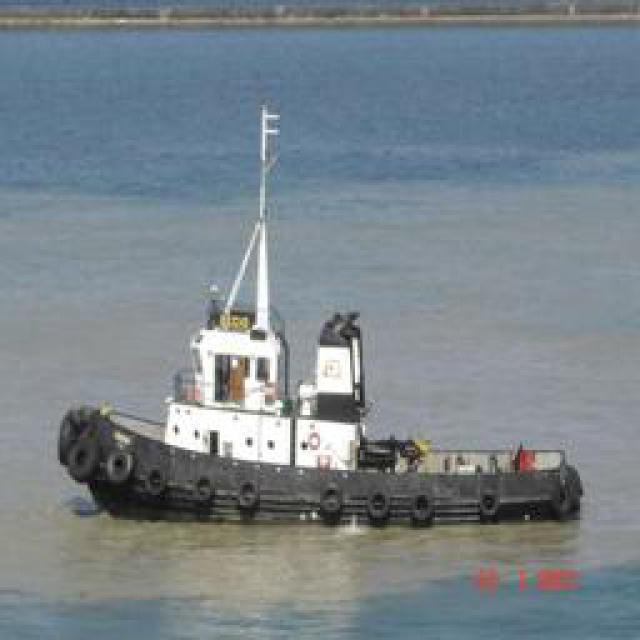Ship: (54, 75, 607, 525)
